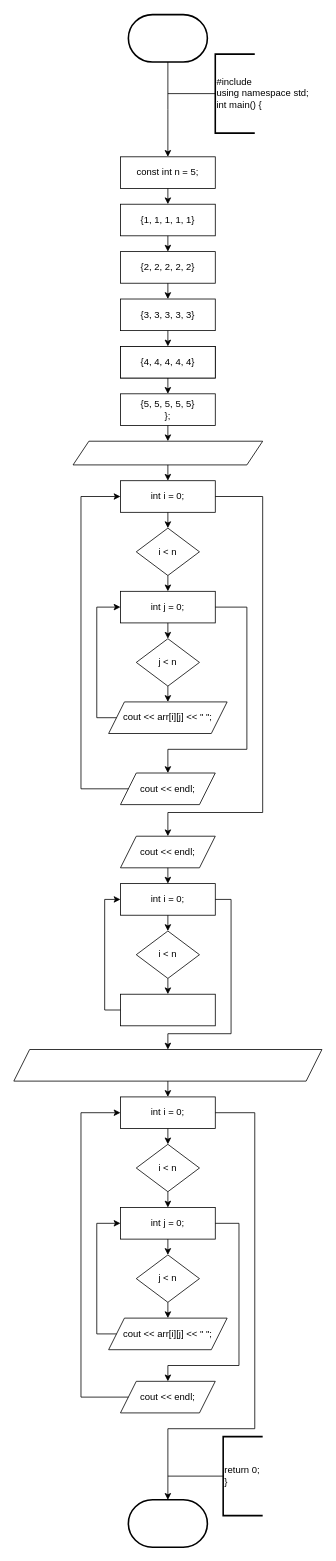
Image size: 336x1561. Some labels were removed from this diagram. Here are the shapes that lost their labels. From the top down, the centre of each, then its label:
pixel 167 37: Начало
pixel 167 452: cout << "Исходная матрица:" << endl;
pixel 167 1009: arr[i][i] = 0;
pixel 167 1065: cout << "Матрица после обнуления главной диагонали:" << endl;
pixel 167 1523: Конец
